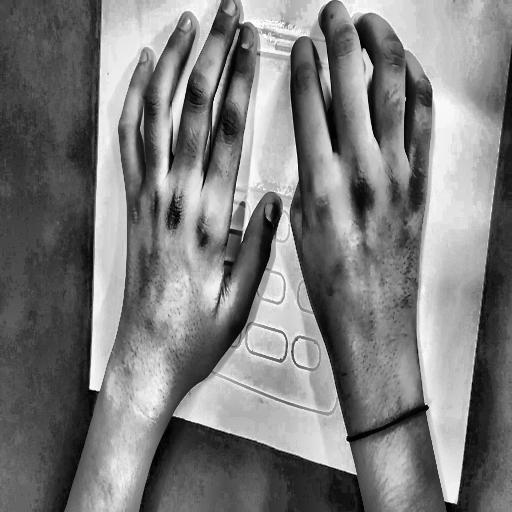bottom_left: (87, 383, 93, 394)
bottom_right: (454, 498, 460, 507)
mobile: (190, 0, 382, 429)
